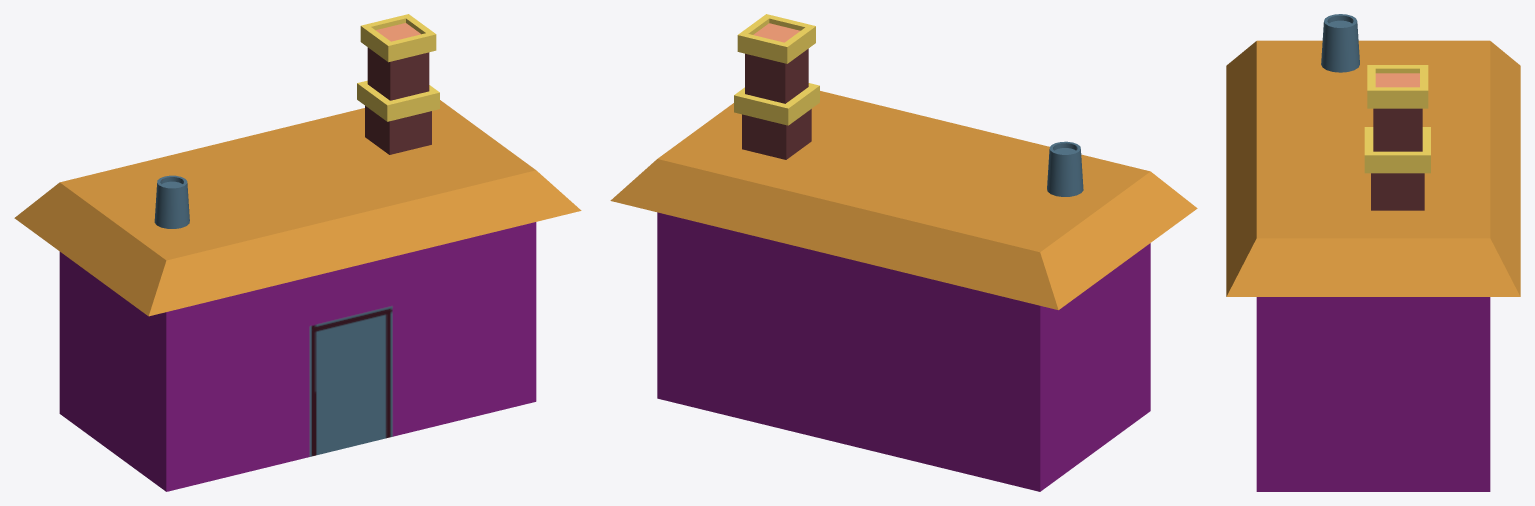
File: Store.fbx
The picture shows the model from 3 angles, left to right: view 1: azimuth 30°, elevation 25°; view 2: azimuth 150°, elevation 25°; view 3: azimuth 270°, elevation 25°; orthographic projection. The views are drawn at different scales.
Visible parts, largest first — view 1: Cube.001; view 2: Cube.001; view 3: Cube.001.
Part boxes in pixels (left/top/right/bottom): Cube.001: left=14, top=14, right=581, bottom=491; Cube.001: left=610, top=14, right=1197, bottom=491; Cube.001: left=1226, top=14, right=1520, bottom=491.
Size of the model in its own units: 803 by 606 by 431.
